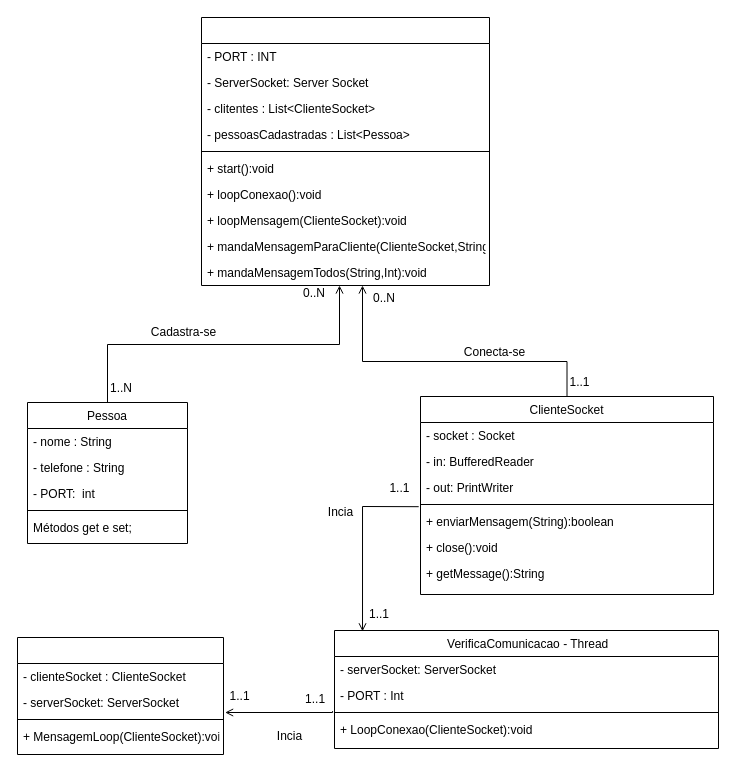
The diagram is 736 pixels wide and 772 high, and some of its shapes have lost their labels. The shapes that lost their labels are listed below. From the top down, each one's box as (x1, y1, x2, y2) in pixels, then its label:
(200, 16, 490, 286): ServidorChat
(16, 636, 224, 754): VerificaSockets - Thread
